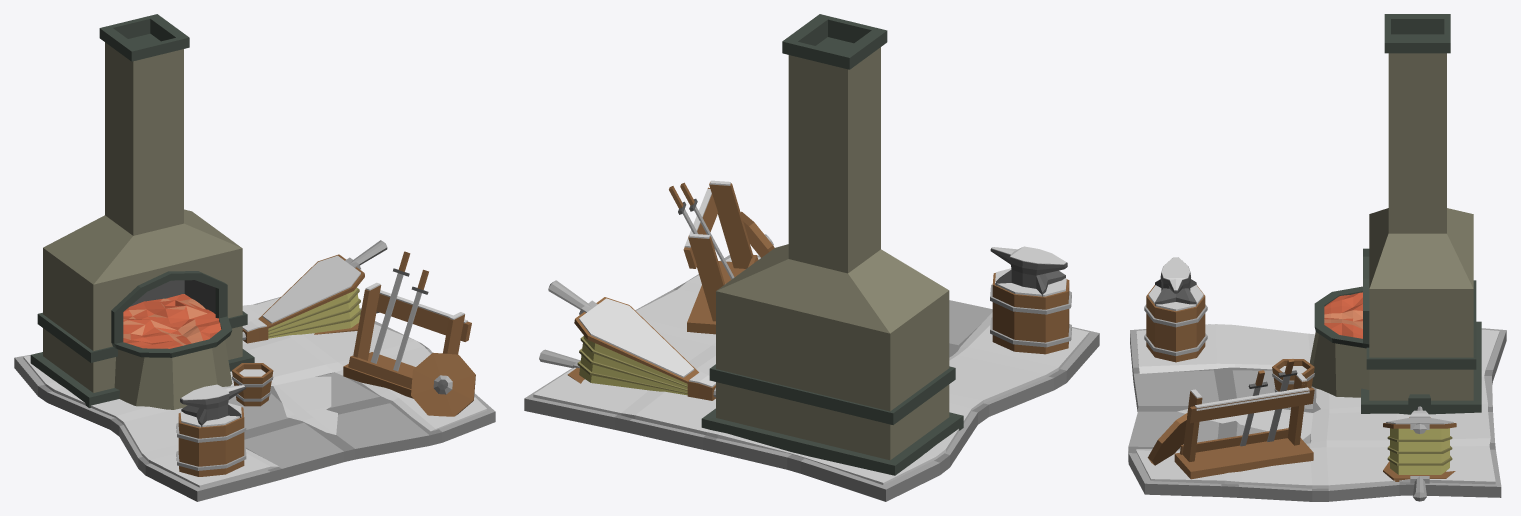
File: Smithy_2_lvl_snow_mat.fbx
The picture shows the model from 3 angles, left to right: view 1: azimuth 30°, elevation 25°; view 2: azimuth 150°, elevation 25°; view 3: azimuth 270°, elevation 25°; orthographic projection. The views are drawn at different scales.
Parts seen in each view (by area): view 1: Smithy_2_lvl_snow_mat; view 2: Smithy_2_lvl_snow_mat; view 3: Smithy_2_lvl_snow_mat.
Boxes of the visible parts, <box> form: Smithy_2_lvl_snow_mat: <box>14,14,495,501</box>; Smithy_2_lvl_snow_mat: <box>524,14,1099,501</box>; Smithy_2_lvl_snow_mat: <box>1128,14,1506,501</box>.
Size of the model in its own units: 3.01 by 2.84 by 2.74.
